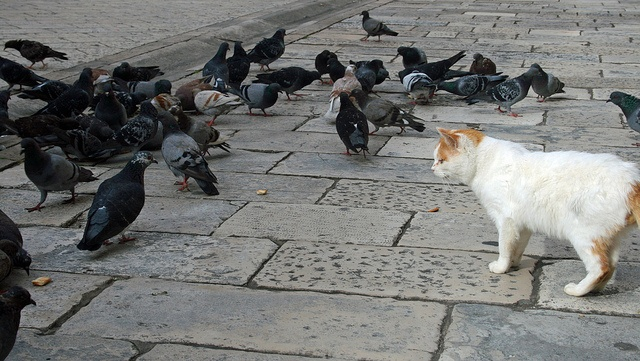bird: (68, 7, 546, 275), (335, 91, 640, 240), (151, 109, 373, 308), (347, 92, 640, 225), (168, 106, 409, 263), (215, 80, 499, 200), (77, 152, 240, 361), (354, 58, 640, 150), (398, 68, 640, 174), (100, 101, 257, 257), (226, 39, 476, 131), (248, 28, 536, 95), (359, 11, 640, 54)
